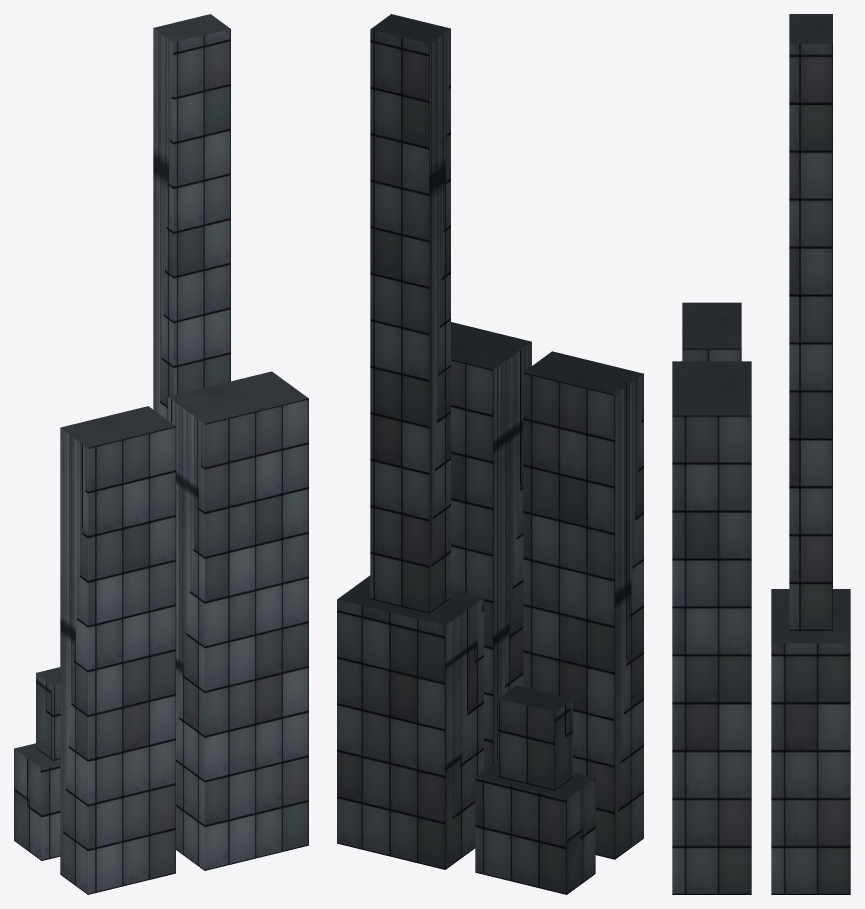
File: city_block_12345_6_27.glb
3 views of the same model, side by side, from view 1: azimuth 30°, elevation 25°; view 2: azimuth 150°, elevation 25°; view 3: azimuth 270°, elevation 25° (orthographic). The views are drawn at different scales.
Visible parts, largest first — view 1: block_27; view 2: block_27; view 3: block_27.
Boxes of the visible parts, x1,y1,x2,y2 form: block_27: (14, 14, 308, 894); block_27: (337, 14, 643, 894); block_27: (672, 14, 850, 894).
Bounding box in the file's own units: 4.05 × 14 × 2.7.
Materials: 4 (4 with a texture image).
